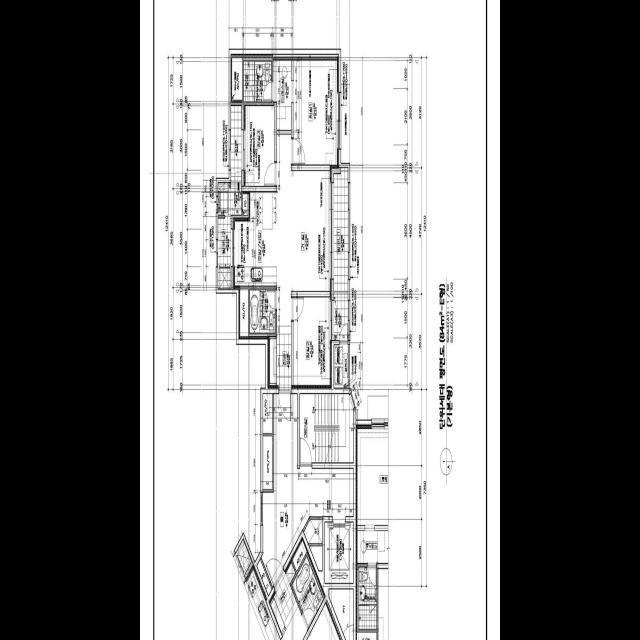background: (140, 0, 500, 640)
space_balconi: (218, 105, 241, 288), (334, 167, 348, 340)
space_bedroom: (294, 56, 339, 168), (294, 297, 331, 388), (244, 105, 274, 186)
space_dressroom: (273, 56, 291, 130)
space_elevator: (325, 522, 353, 582)
space_elevator_hall: (261, 394, 353, 586)
space_front: (268, 325, 291, 388)
space_kitchen: (233, 191, 277, 288)
space_living_room: (277, 134, 331, 326)
space_other: (329, 589, 353, 640), (257, 559, 272, 595), (231, 54, 242, 102), (263, 436, 272, 489), (239, 288, 248, 339), (304, 519, 322, 543), (263, 393, 272, 433), (309, 546, 322, 570), (243, 190, 248, 215)
space_outdoor_room: (334, 345, 348, 387)
space_staircase: (300, 393, 353, 462)
space_toilet: (244, 61, 271, 101), (250, 289, 275, 332)
